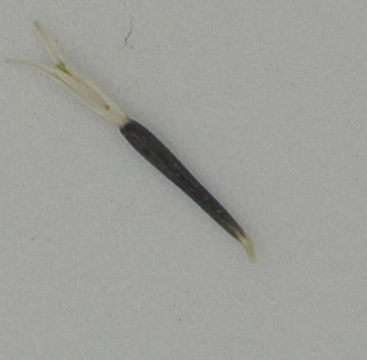เมล็ดดีเรียวยาว: (4, 17, 259, 265)
